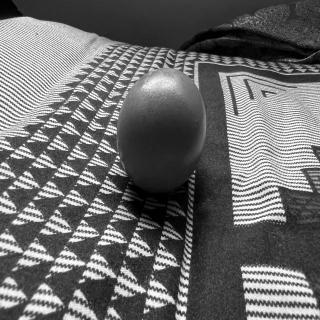Telur: (116, 67, 212, 196)
